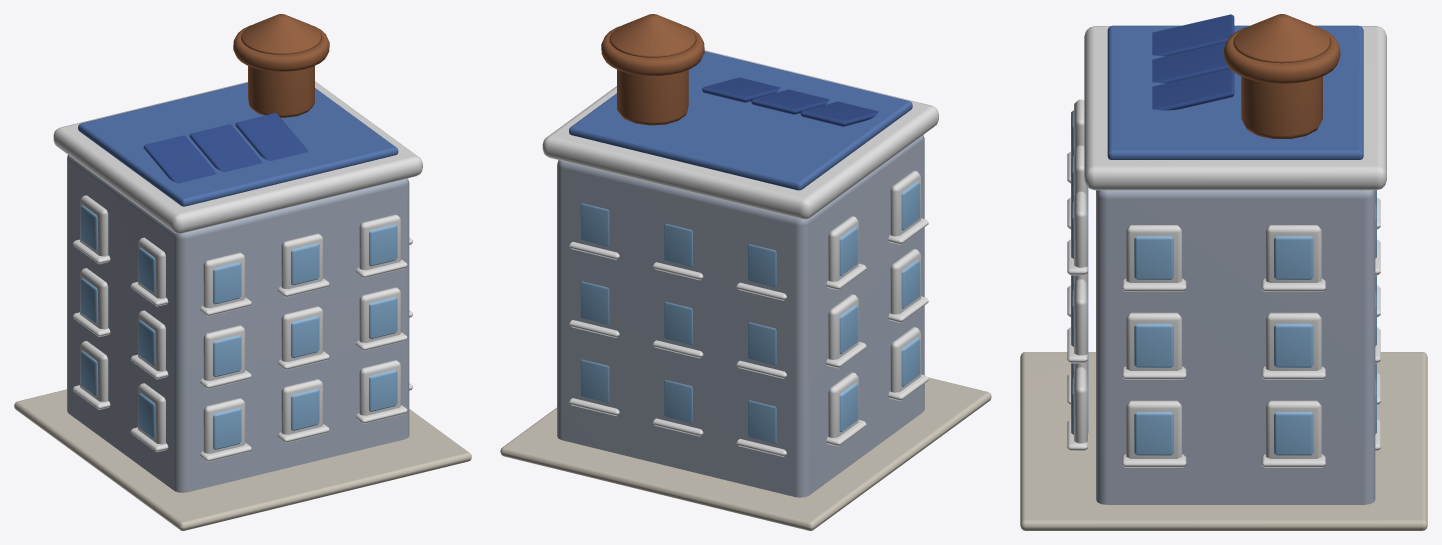
3 views of the same model, side by side, from view 1: azimuth 30°, elevation 25°; view 2: azimuth 150°, elevation 25°; view 3: azimuth 270°, elevation 25° (orthographic). The views are drawn at different scales.
Parts seen in each view (by area): view 1: Cube; view 2: Cube; view 3: Cube.
Boxes of the visible parts, x1,y1,x2,y2 form: Cube: [14, 14, 471, 530]; Cube: [500, 14, 991, 530]; Cube: [1020, 14, 1427, 530].
Bounding box in the file's own units: 0.7 × 0.885 × 0.7.
